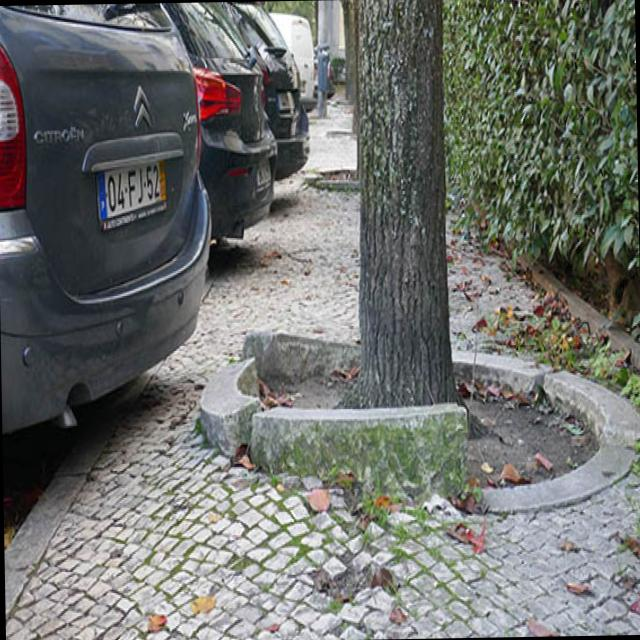portuguese-license-plates: (91, 155, 170, 233)
